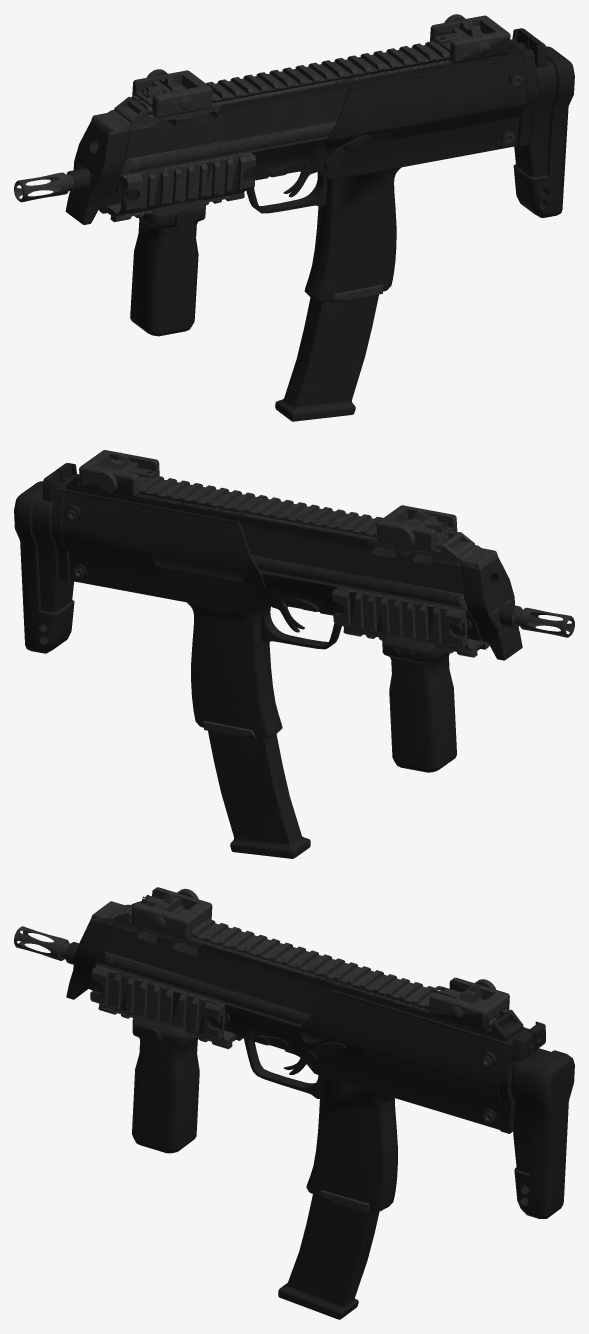
3 views of the same model, one above another, from view 1: azimuth 30°, elevation 25°; view 2: azimuth 150°, elevation 25°; view 3: azimuth 330°, elevation 25° (orthographic).
Parts seen in each view (by area): view 1: mp7; view 2: mp7; view 3: mp7.
Part boxes in pixels (x1,y1,x2,y2): mp7: (14,14,574,421); mp7: (14,450,574,858); mp7: (14,887,574,1319).
Bounding box in the file's own units: 0.42 × 0.2782 × 0.0493.
2 materials, 2 textured.
